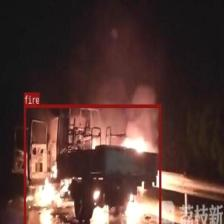fire: (23, 103, 160, 224)
